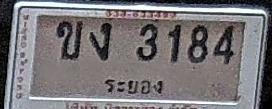1: (168, 24, 182, 62)
3: (137, 23, 158, 60)
4: (214, 24, 234, 64)
8: (188, 24, 208, 62)
A02: (56, 19, 83, 59)
A07: (90, 21, 112, 60)
RYG: (100, 74, 167, 99)
